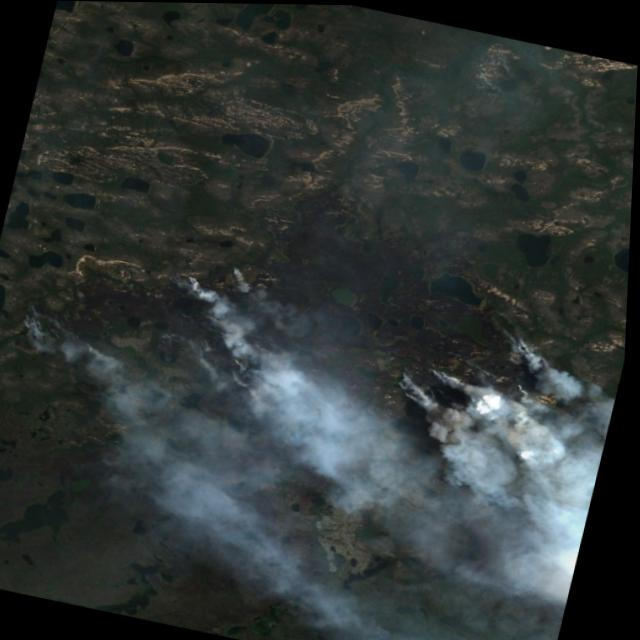fire: (7, 225, 287, 404), (379, 298, 588, 472)
